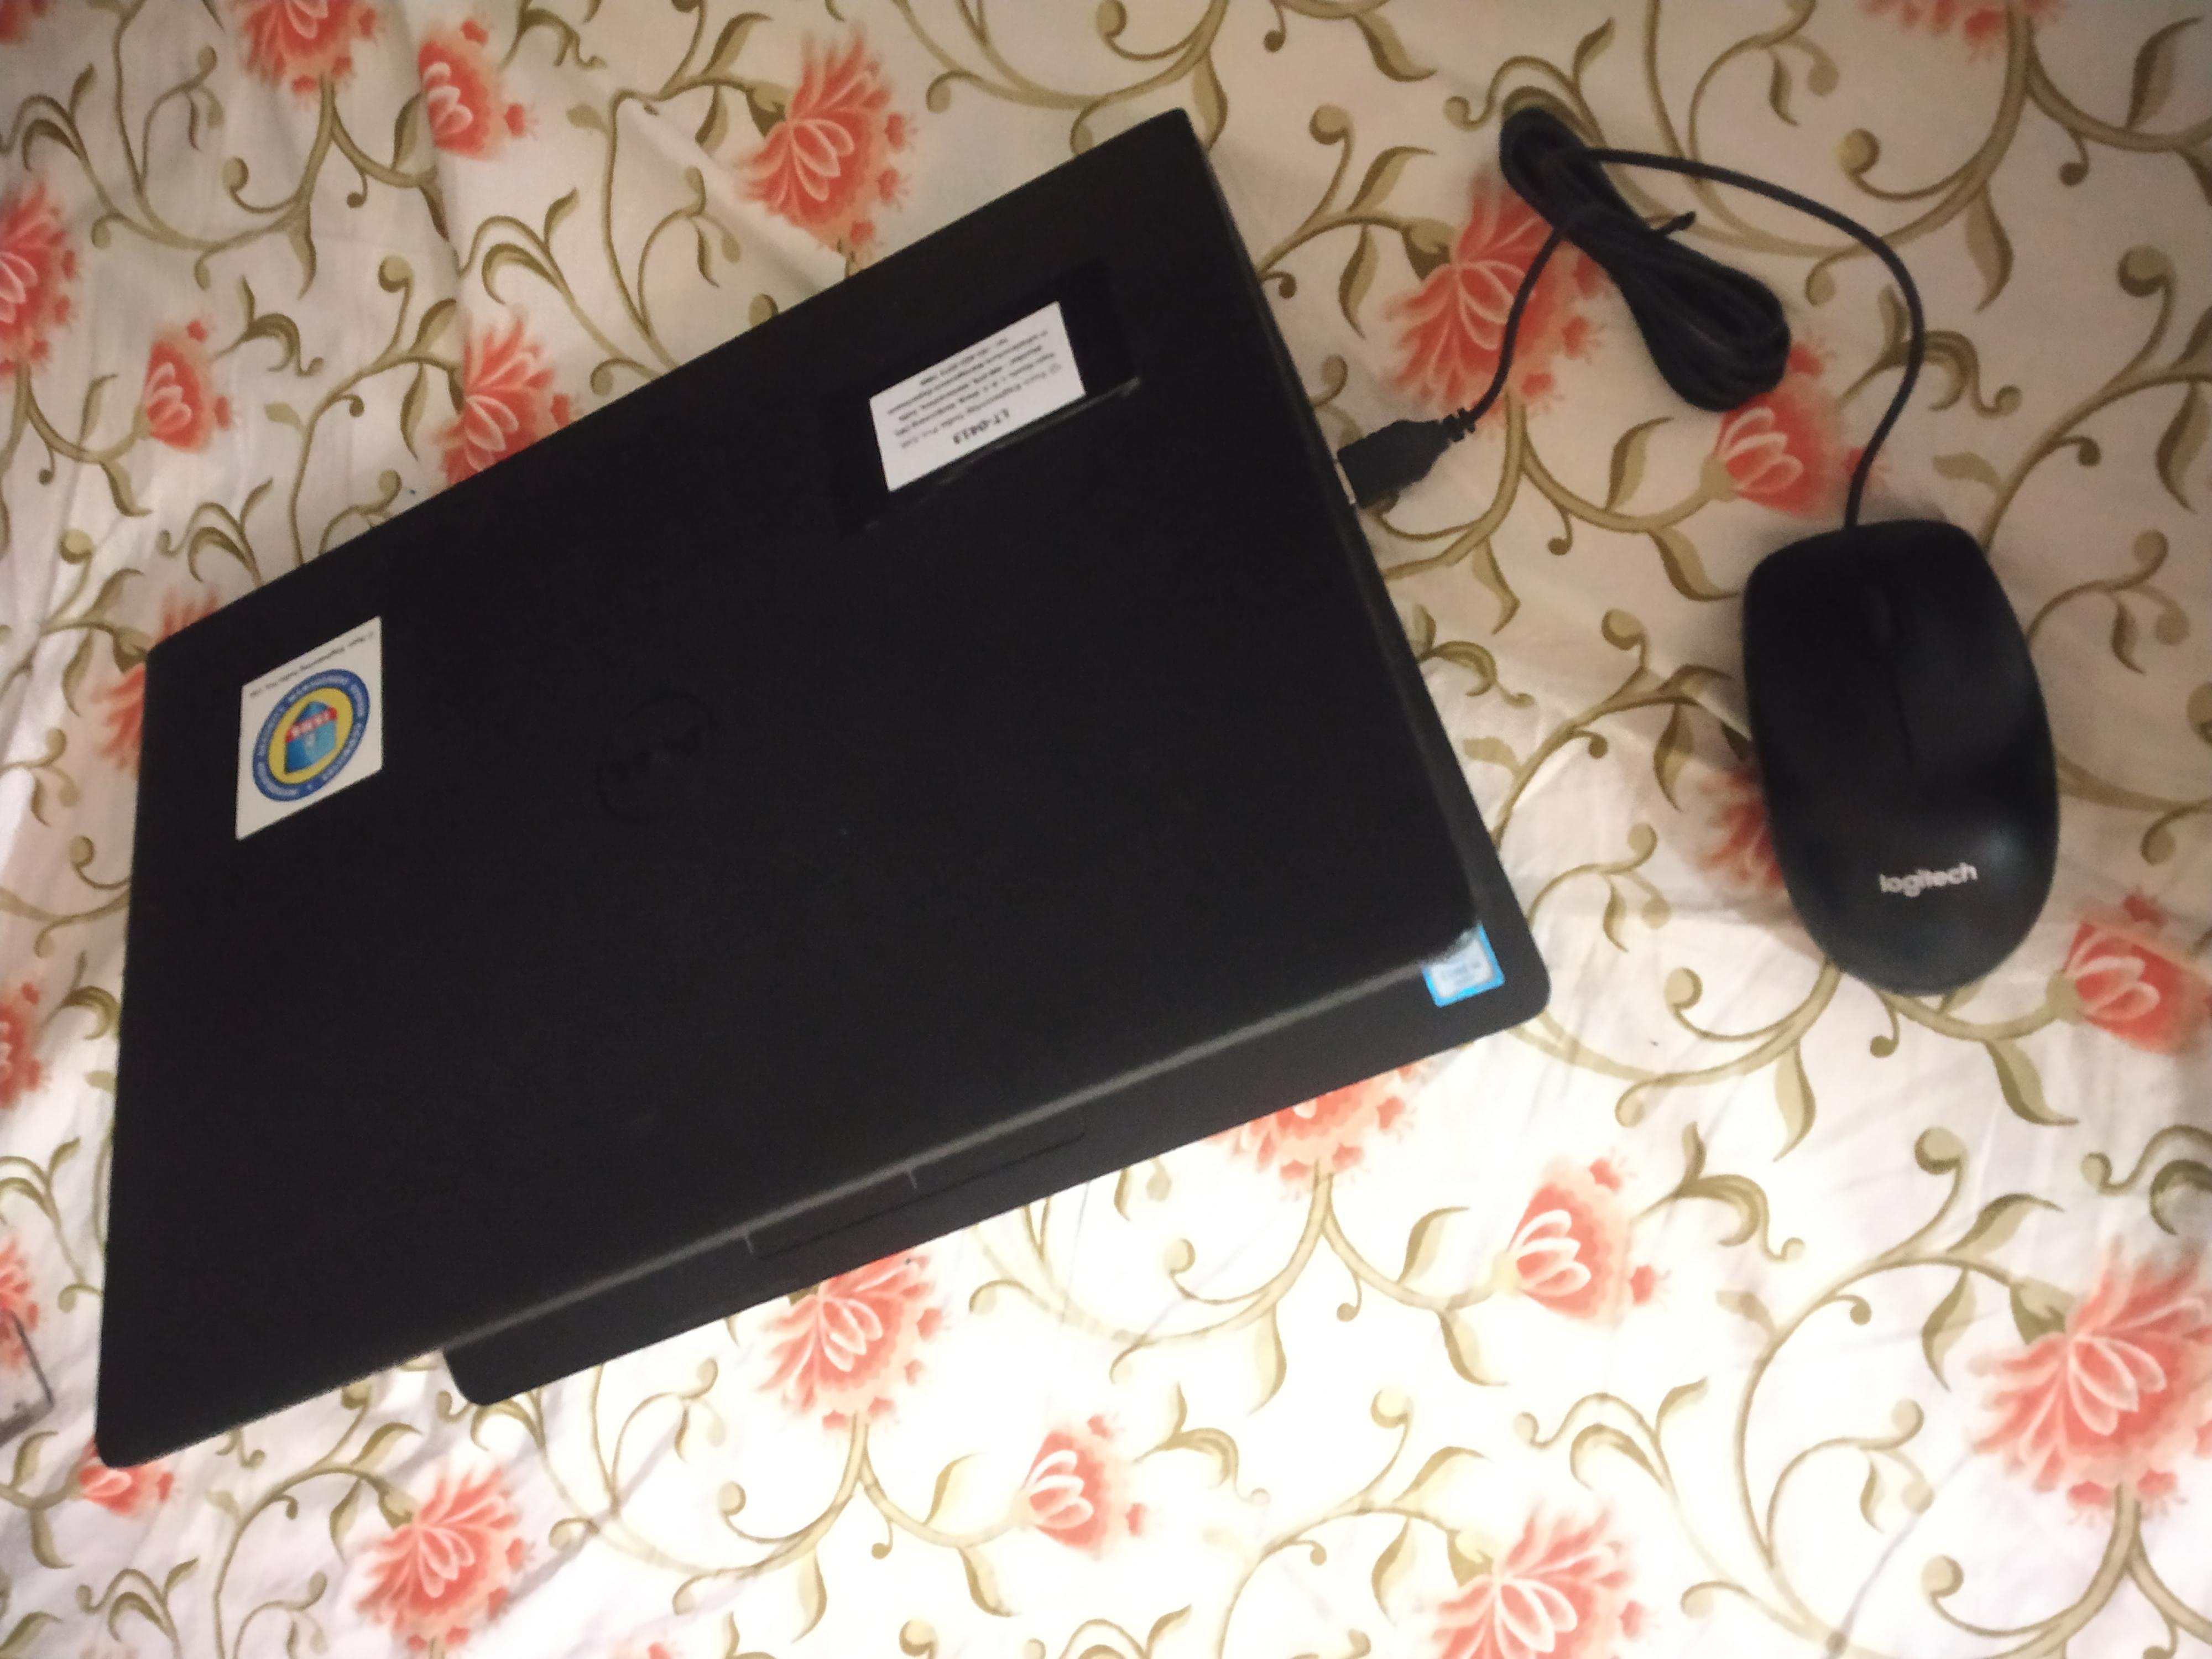laptop: (71, 91, 1575, 1518)
mouse: (1689, 488, 2087, 1023)
